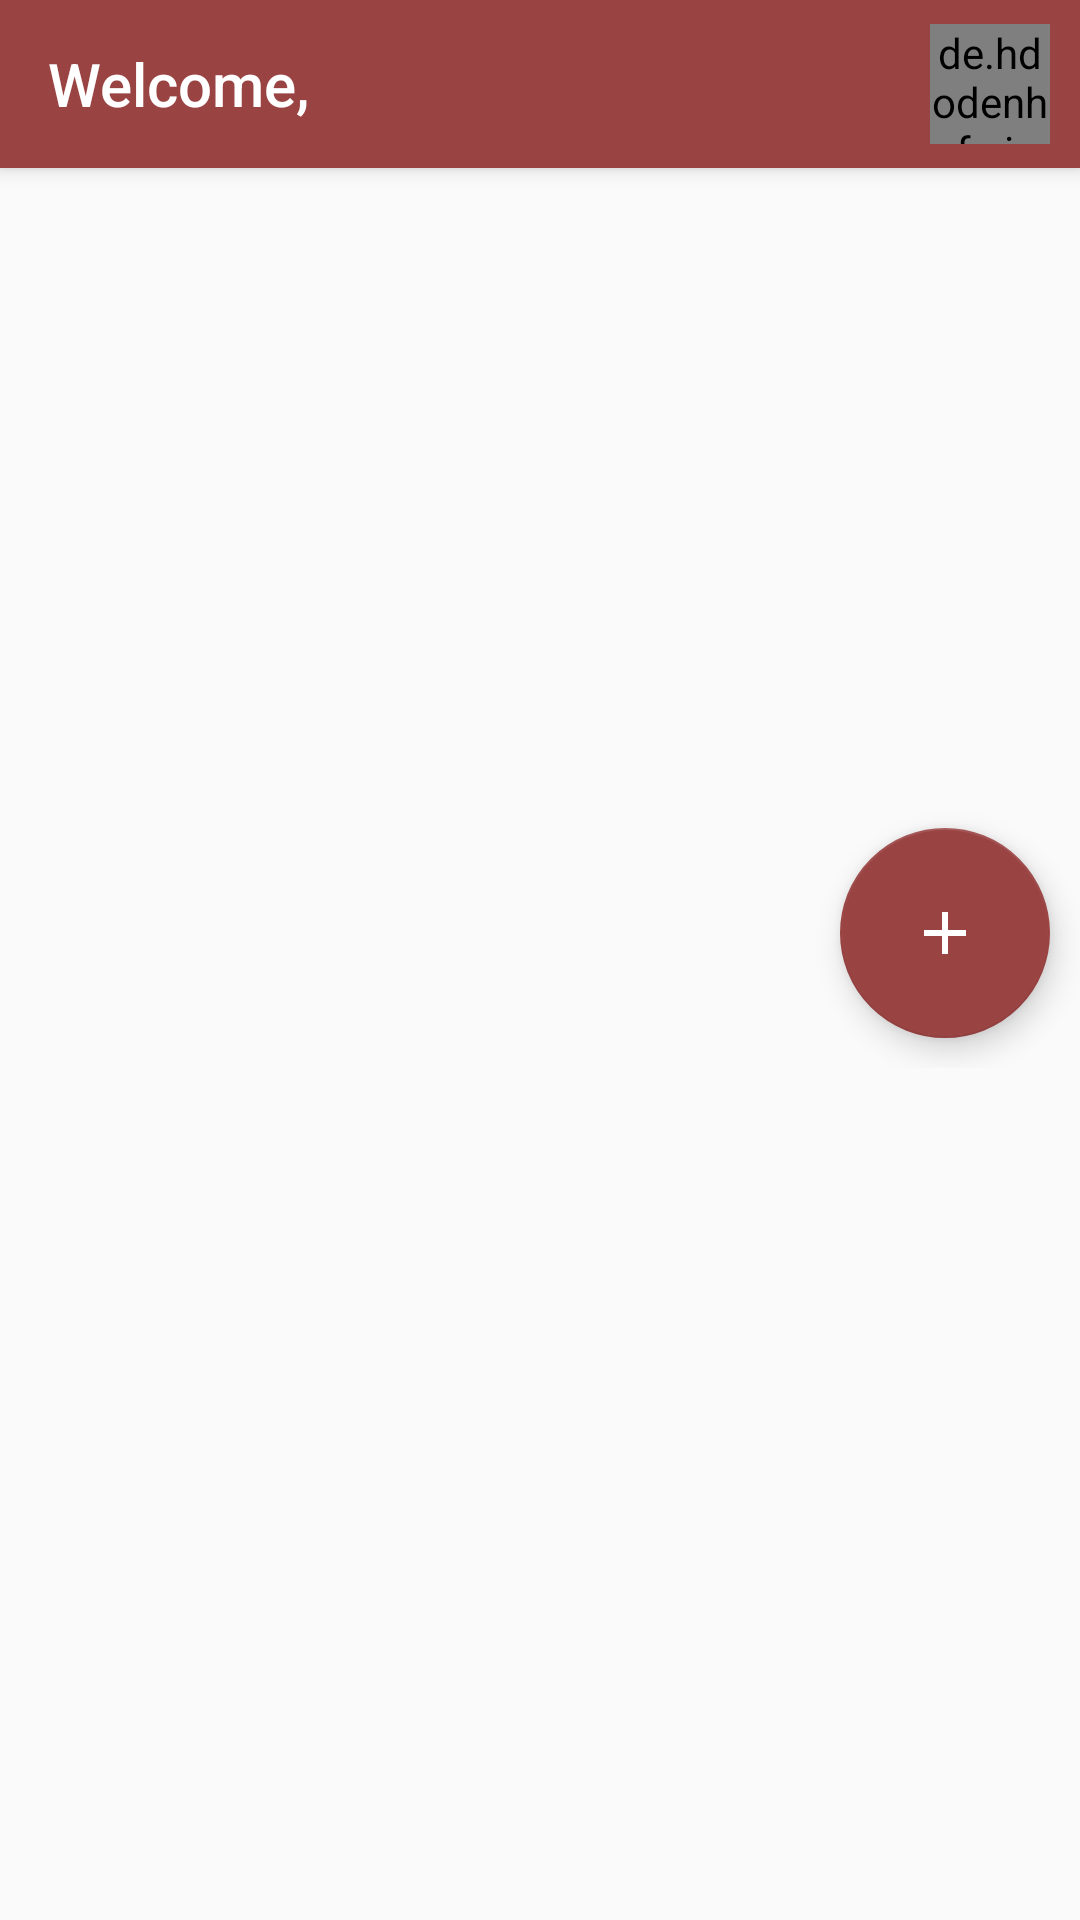

Point at icon controls on the screen. Image size 1080 × 1920, points as point (x, y).
plus: point (945, 933)
